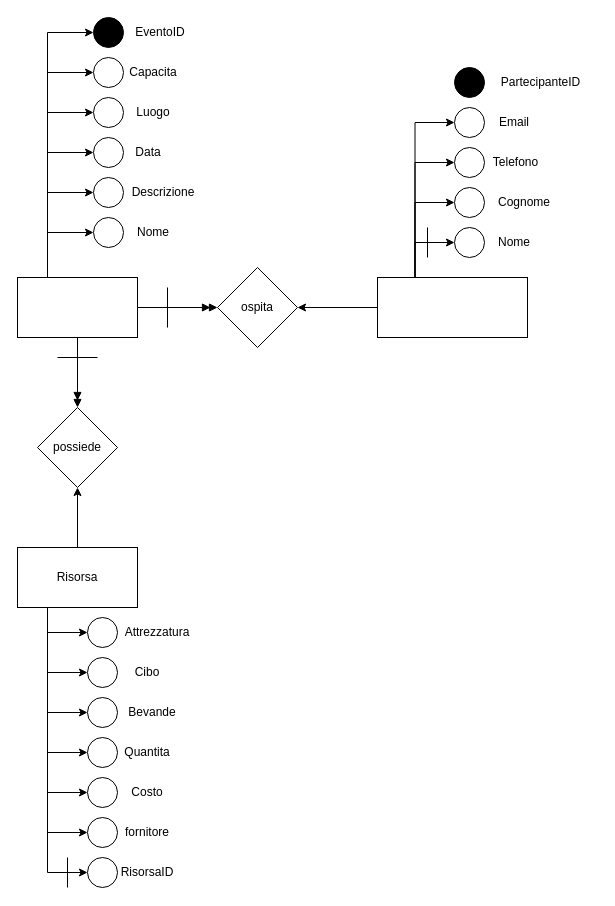
The diagram is 615 pixels wide and 906 high, and some of its shapes have lost their labels. Here are the shapes that lost their labels. From the top down, the centre of each, then its label:
At (77,307): "Evento".
At (452,307): "Partecipante".
